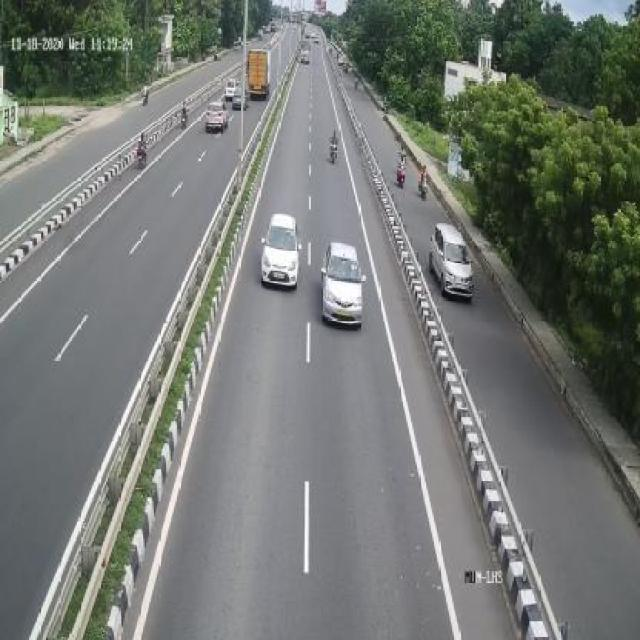car: (322, 234, 366, 329), (431, 219, 475, 303), (262, 211, 302, 294), (200, 92, 228, 134)
